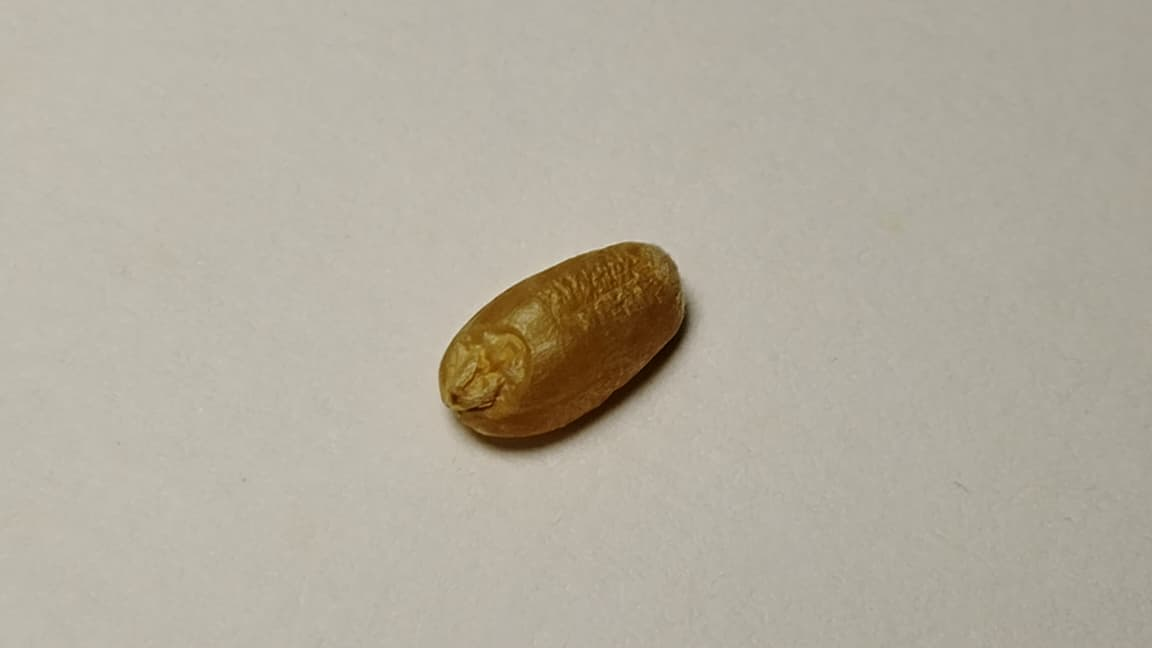healthy: (440, 242, 683, 435)
